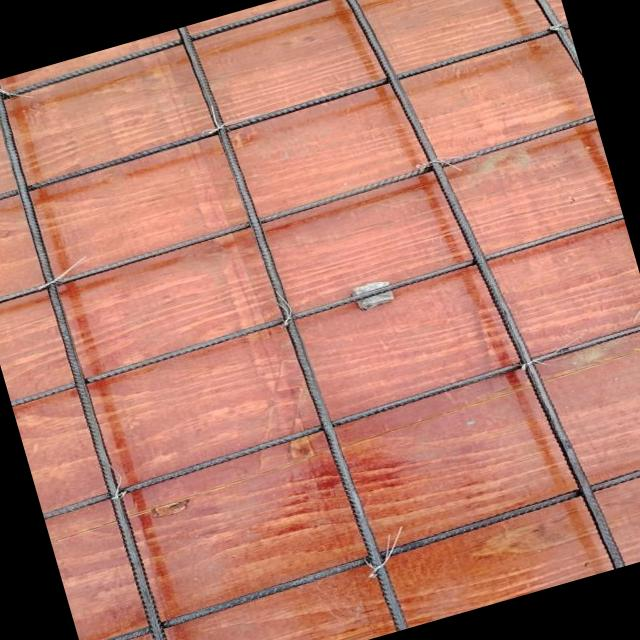ribbed bar: (337, 0, 631, 596), (172, 10, 414, 640), (8, 212, 628, 408), (38, 318, 640, 519), (0, 114, 598, 308), (0, 21, 572, 213), (76, 452, 640, 640), (0, 75, 187, 640), (0, 0, 545, 122), (491, 0, 583, 90)
